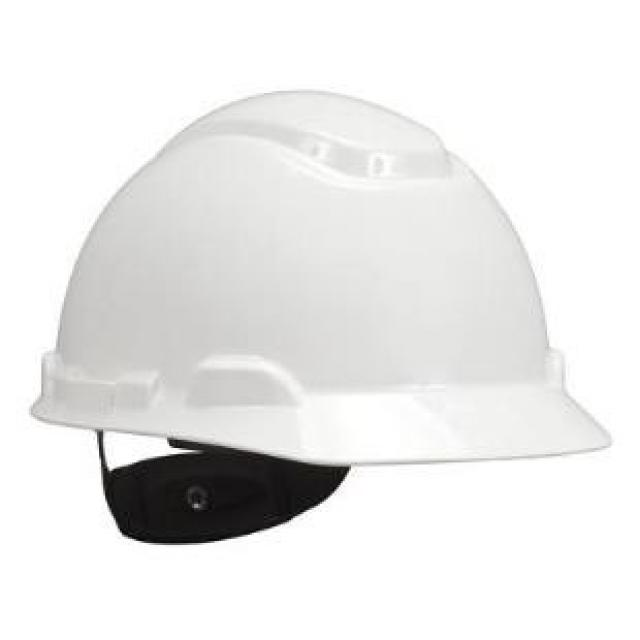Safety-Helmet: (22, 72, 626, 492)
